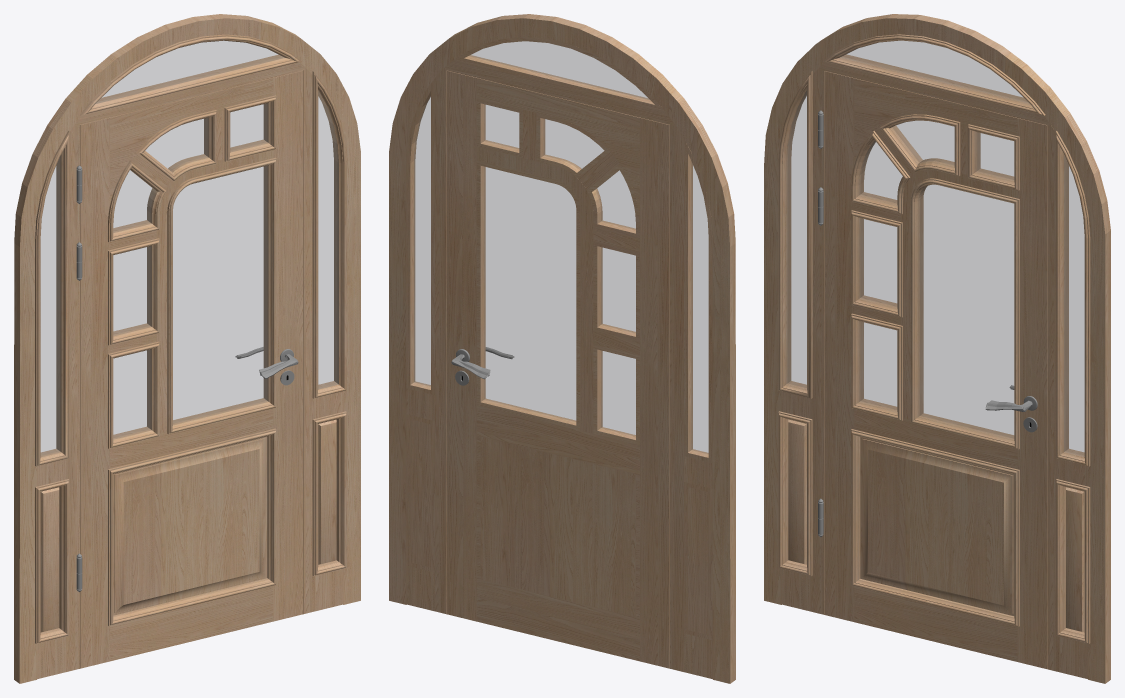
The model's file is door24.FBX.
3 views of the same model, side by side, from view 1: azimuth 30°, elevation 25°; view 2: azimuth 150°, elevation 25°; view 3: azimuth 330°, elevation 25° (orthographic).
Visible parts, largest first — view 1: doors, frame; view 2: doors, frame; view 3: doors, frame.
Boxes of the visible parts, bbox=[...] form: doors: bbox=[76, 70, 302, 668]; frame: bbox=[14, 14, 360, 683]; doors: bbox=[447, 70, 669, 668]; frame: bbox=[389, 14, 735, 683]; doors: bbox=[818, 71, 1047, 669]; frame: bbox=[764, 14, 1110, 683].
Bounding box in the file's own units: 126 × 218 × 19.21.
